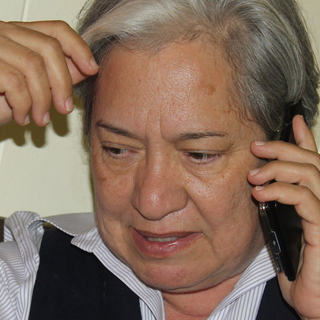eye: (177, 143, 223, 168), (97, 139, 139, 164)
